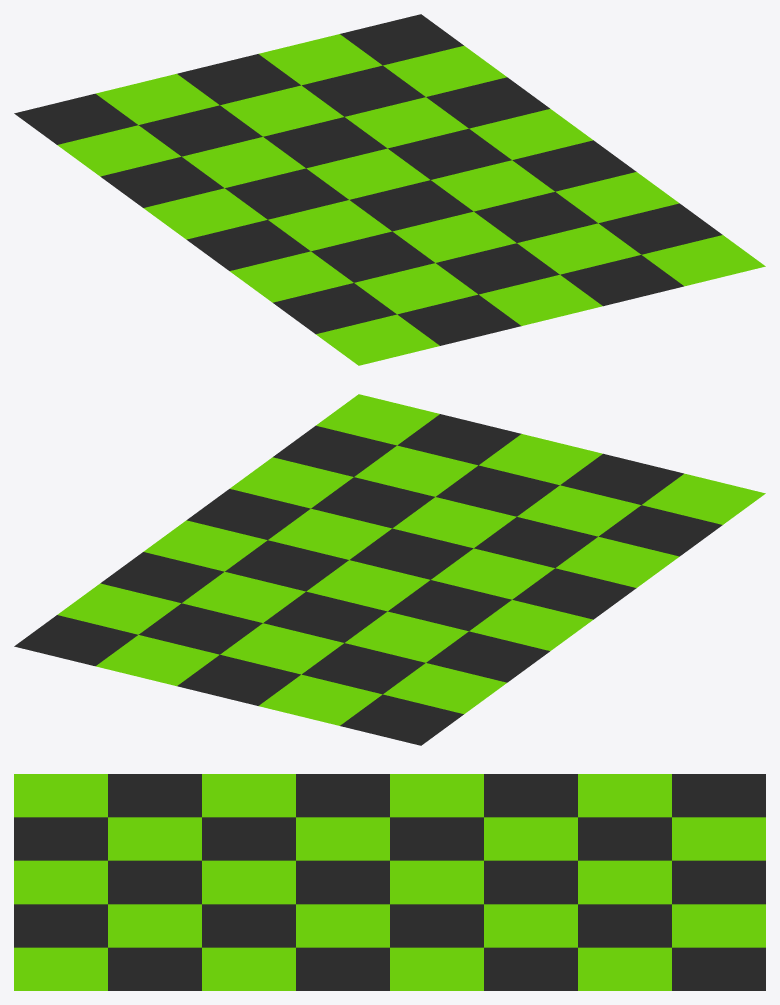
File: nightclub_dancefloor.fbx
The picture shows the model from 3 angles, top to bottom: view 1: azimuth 30°, elevation 25°; view 2: azimuth 150°, elevation 25°; view 3: azimuth 270°, elevation 25°; orthographic projection. The views are drawn at different scales.
Parts seen in each view (by area): view 1: Cube.002; view 2: Cube.002; view 3: Cube.002.
Part boxes in pixels (x1,y1,x2,y2): Cube.002: (14,14,765,365); Cube.002: (14,394,765,745); Cube.002: (14,774,765,990).
Bounding box in the file's own units: 455 × 0 × 667.
